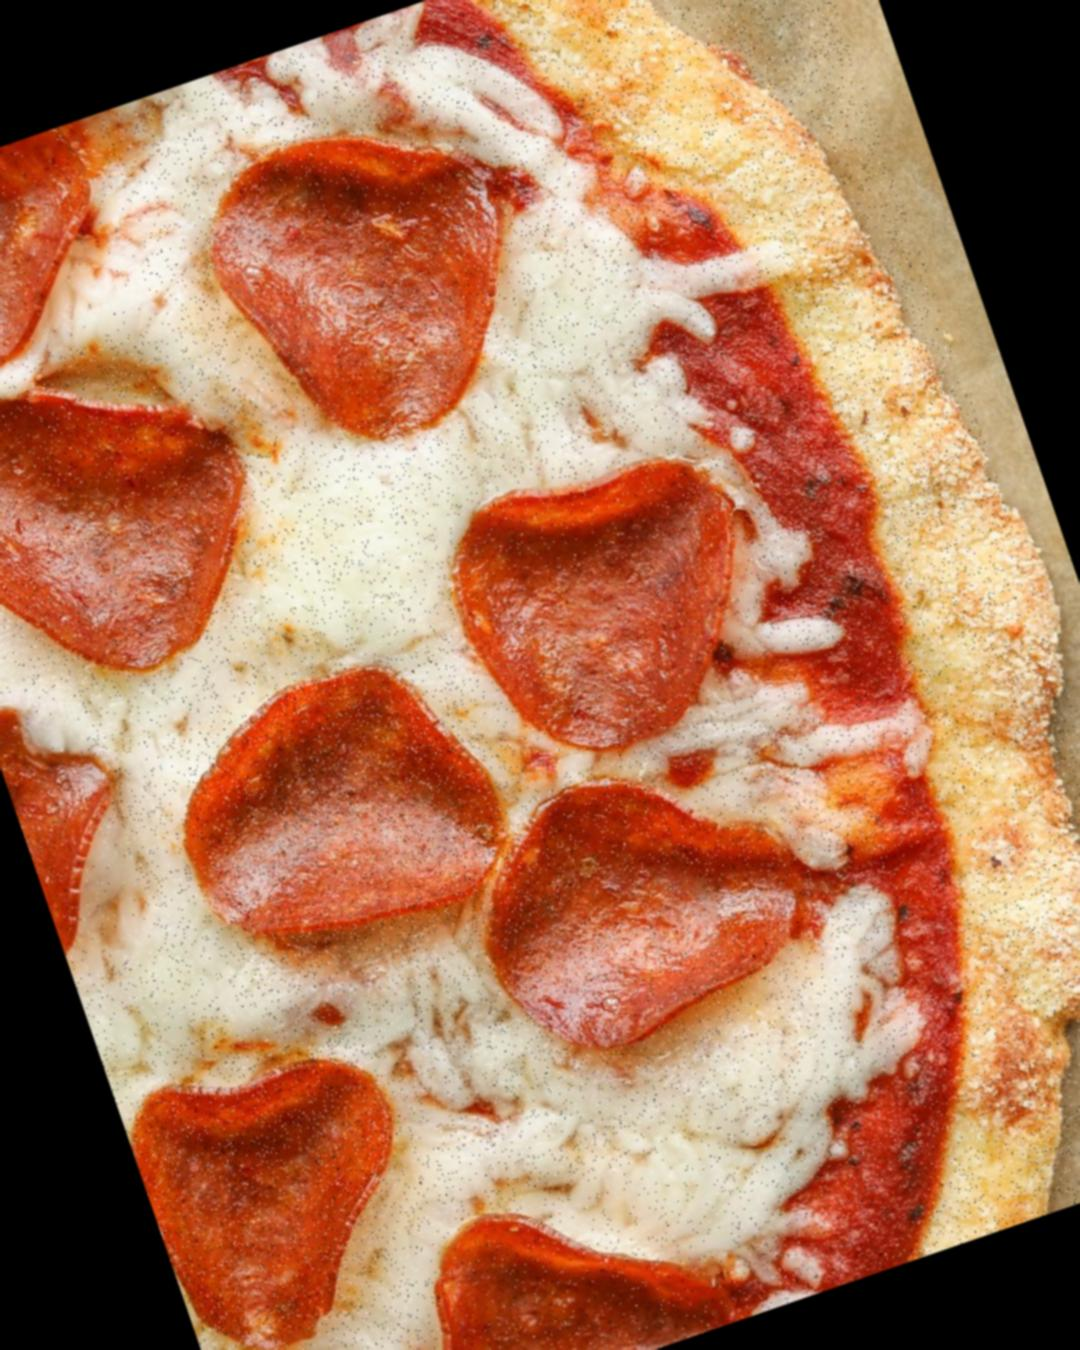Pepperoni: (424, 714, 863, 1074), (186, 95, 560, 477), (422, 414, 788, 788), (166, 641, 532, 997), (0, 330, 282, 711), (129, 1019, 449, 1350), (397, 1138, 758, 1350), (0, 121, 163, 410), (0, 683, 160, 975)
Pizza: (0, 0, 1080, 1350)
